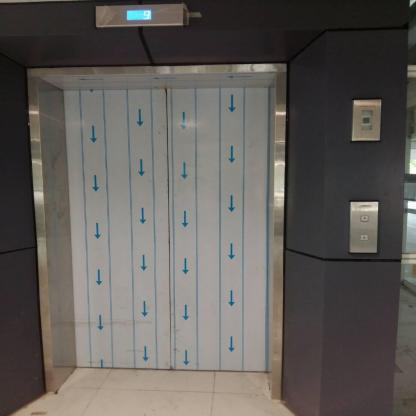keyhole: (359, 234, 368, 241)
led: (125, 9, 152, 21)
up: (360, 215, 368, 222)
